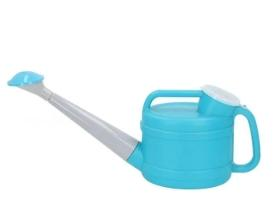ARROSOIR: (3, 69, 266, 196)
